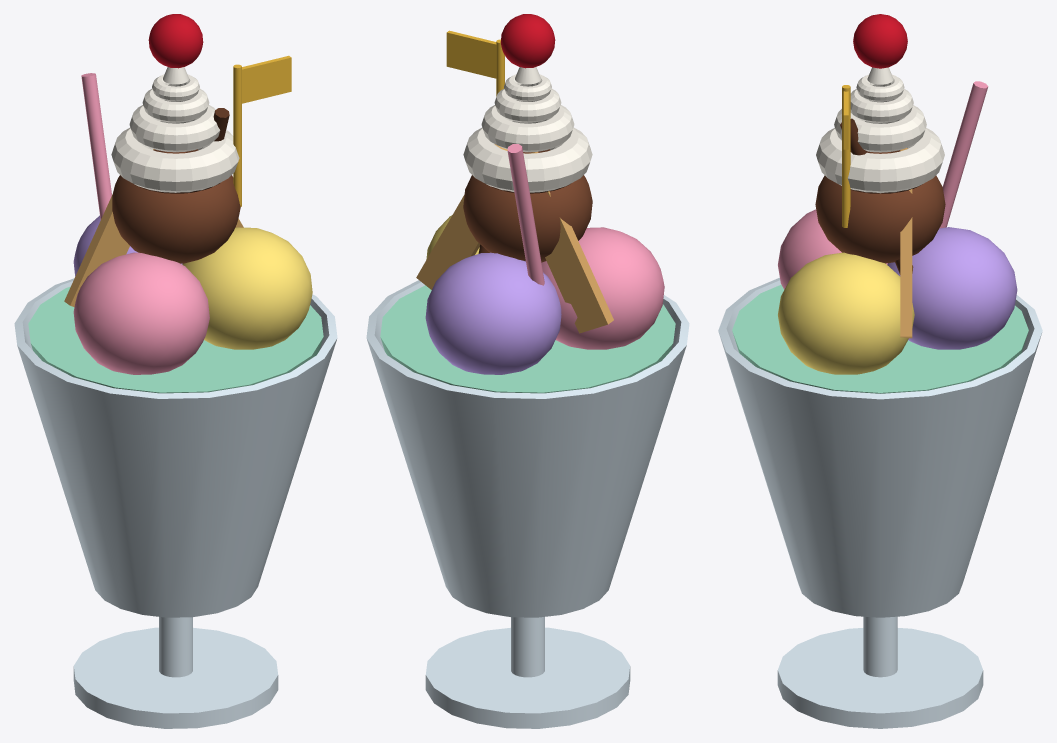
File: Ice_L8.fbx
3 renders of one model, left to right at view 1: azimuth 30°, elevation 25°; view 2: azimuth 150°, elevation 25°; view 3: azimuth 270°, elevation 25°, orthographic.
Parts seen in each view (by area): view 1: I8_Glass, I8_Scoop (×3), I8_Base, I8_Layer, I8_TopScoop, I8_Whip_1, I8_Whip_2, I8_Cherry, I8_Pocky, I8_Wafer, I8_Stem, I8_Flag (+3 smaller); view 2: I8_Glass, I8_Scoop (×2), I8_Base, I8_Layer, I8_TopScoop, I8_Wafer (×2), I8_Whip_1, I8_Whip_2, I8_Cherry, I8_Pocky, I8_Stem, I8_Flag (+2 smaller); view 3: I8_Glass, I8_Scoop (×3), I8_Base, I8_Layer, I8_TopScoop, I8_Whip_1, I8_Cherry, I8_Whip_2, I8_Pocky, I8_Stem, I8_Wafer, I8_Whip_3 (+2 smaller).
Part boxes in pixels (<box>): I8_Glass: <box>14,278,337,617</box>; I8_Scoop (×3): <box>73,215,312,374</box>; I8_Base: <box>73,627,278,728</box>; I8_Layer: <box>28,286,323,393</box>; I8_TopScoop: <box>112,151,240,263</box>; I8_Whip_1: <box>111,127,239,192</box>; I8_Whip_2: <box>129,105,220,152</box>; I8_Cherry: <box>148,14,203,68</box>; I8_Pocky: <box>81,73,111,219</box>; I8_Wafer: <box>64,149,154,306</box>; I8_Stem: <box>159,617,192,677</box>; I8_Flag: <box>242,55,291,103</box>; I8_Glass: <box>366,280,689,617</box>; I8_Scoop (×2): <box>425,227,664,374</box>; I8_Base: <box>425,627,630,728</box>; I8_Layer: <box>380,285,675,393</box>; I8_TopScoop: <box>463,151,592,262</box>; I8_Wafer (×2): <box>416,144,613,333</box>; I8_Whip_1: <box>463,127,592,192</box>; I8_Whip_2: <box>481,105,574,152</box>; I8_Cherry: <box>500,14,555,68</box>; I8_Pocky: <box>507,144,544,285</box>; I8_Stem: <box>511,617,544,677</box>; I8_Flag: <box>446,30,496,78</box>; I8_Glass: <box>718,277,1042,617</box>; I8_Scoop (×3): <box>778,209,1017,374</box>; I8_Base: <box>777,628,983,728</box>; I8_Layer: <box>732,284,1028,393</box>; I8_TopScoop: <box>815,152,945,263</box>; I8_Whip_1: <box>816,128,944,193</box>; I8_Cherry: <box>853,14,907,68</box>; I8_Whip_2: <box>834,105,926,152</box>; I8_Pocky: <box>939,81,988,228</box>; I8_Stem: <box>863,616,897,677</box>; I8_Wafer: <box>900,148,912,338</box>; I8_Whip_3: <box>850,89,913,122</box>.
Size of the model in its own units: 18.96 by 43.12 by 18.96.
